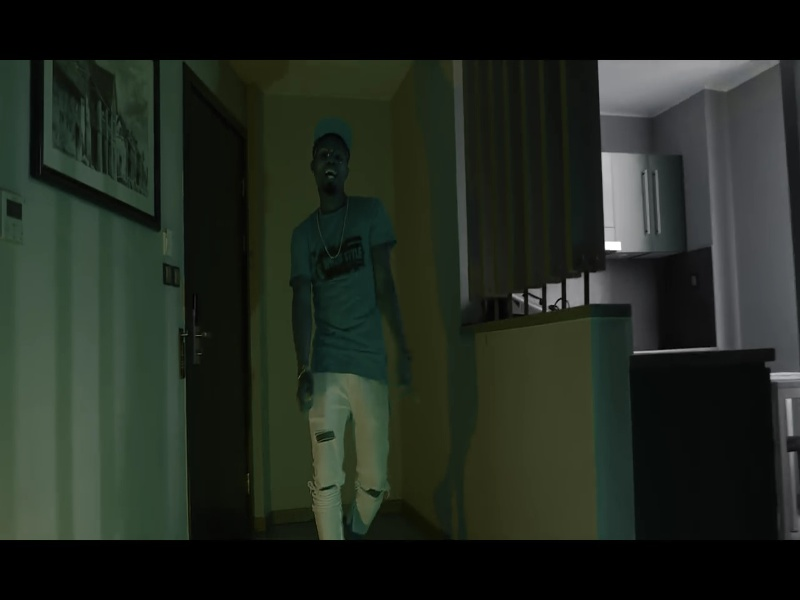TsisyArotava: (305, 115, 363, 208)
